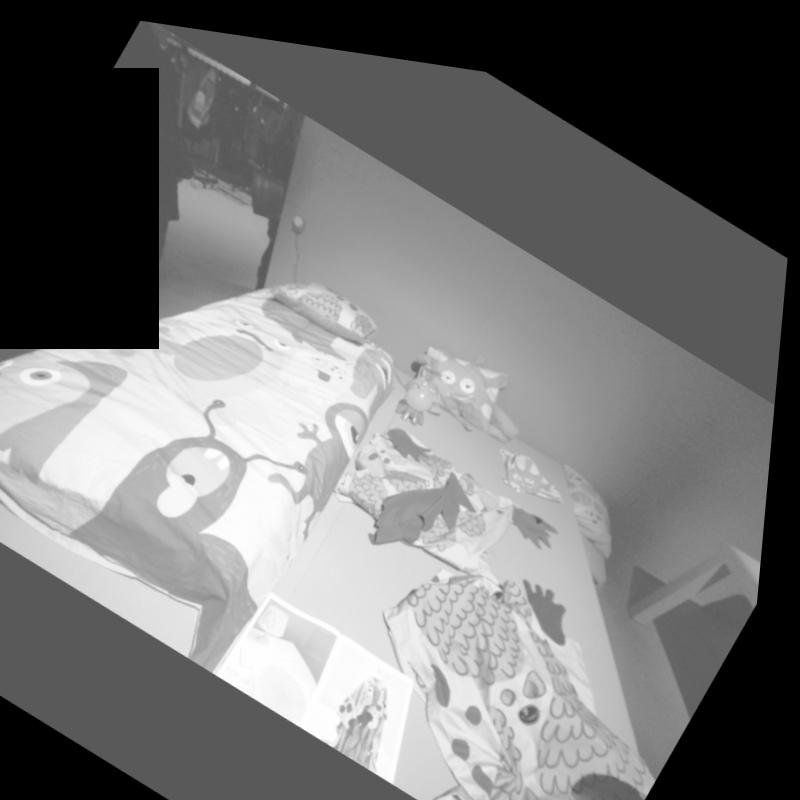pillow: (275, 252, 387, 337)
